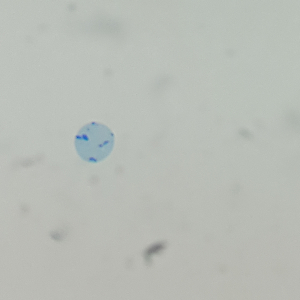aggregate reticulocyte: (73, 121, 116, 164)
